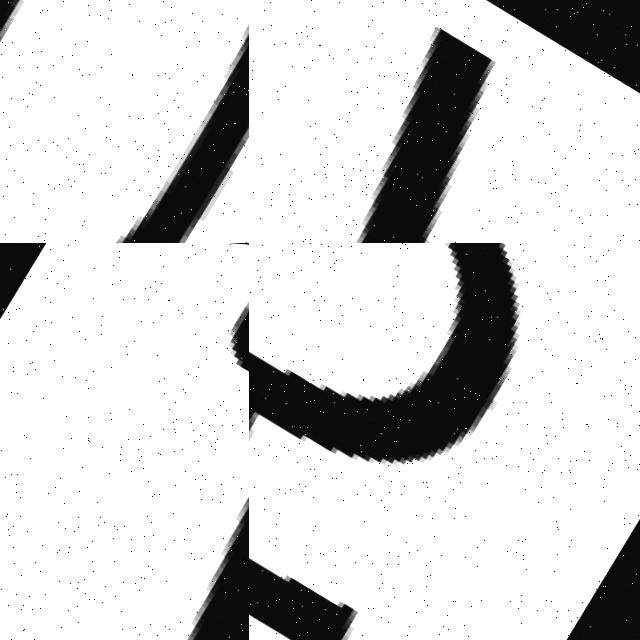0: (0, 0, 249, 243)
5: (249, 243, 615, 640)
I: (249, 2, 592, 243)
J: (0, 245, 249, 640)
